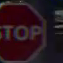Stop: (1, 1, 49, 61)
